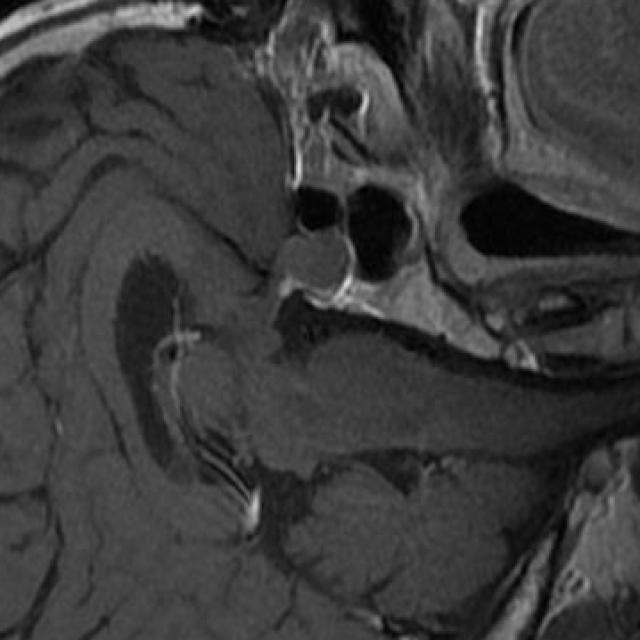pituitary: (273, 228, 351, 291)
